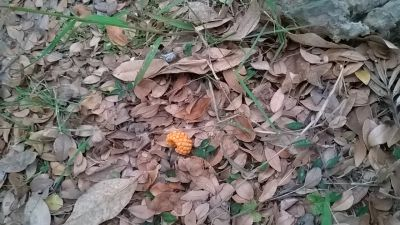eggs: (165, 132, 194, 156)
